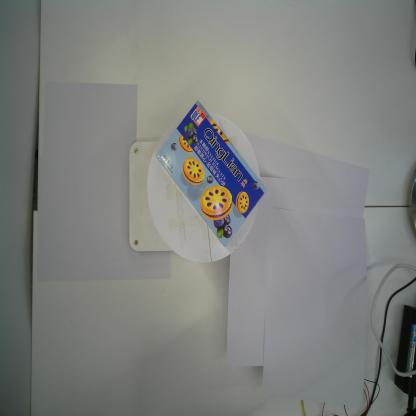Dessert: (156, 99, 268, 249)
